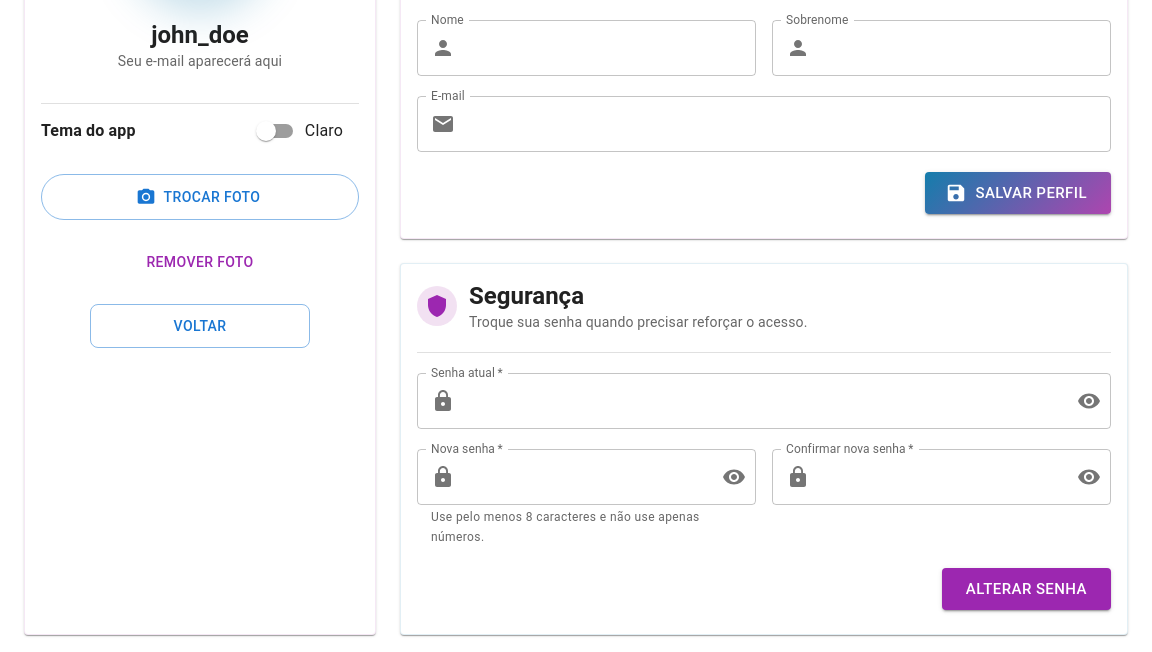
Test: Settings Page › should display password validation error if new password is under 8 characters
(page scrolled)
Type "oldpass" into the password field labelled "Senha atual *" at (762, 401), box x1=463 y1=373 x2=1061 y2=429
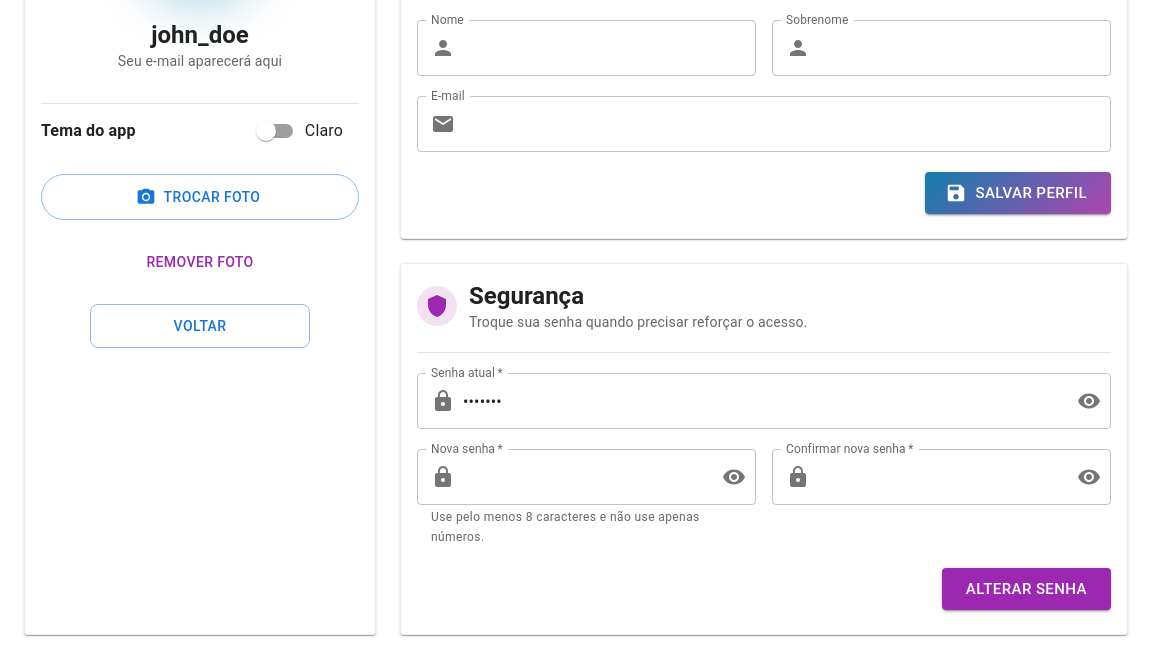
Type "short" into the password field labelled "Nova senha *" at (584, 477), box x1=463 y1=449 x2=706 y2=505
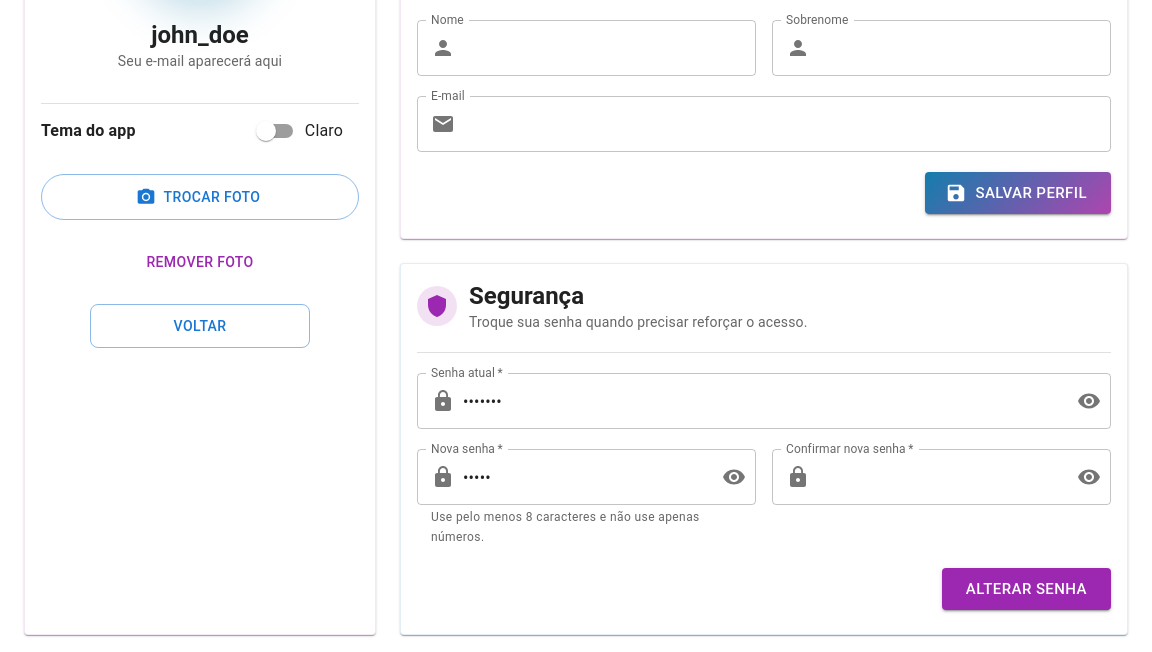
Type "short" into the password field labelled "Confirmar nova senha *" at (940, 477), box x1=818 y1=449 x2=1061 y2=505
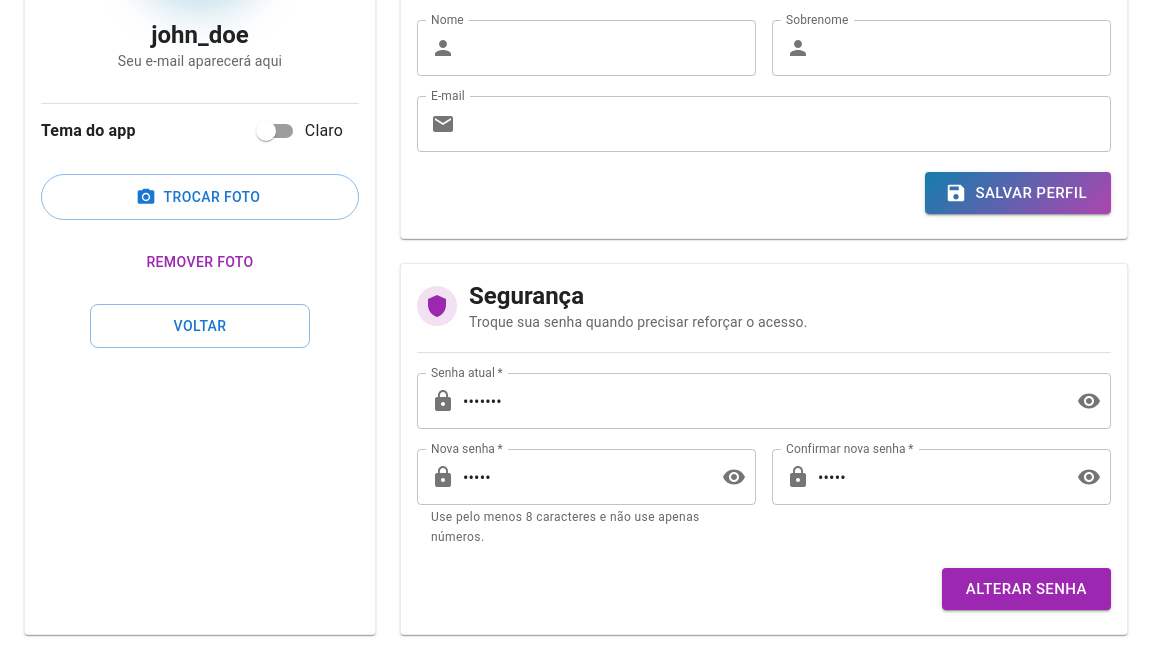
Click the button "Alterar senha" at (1026, 589), box x1=942 y1=568 x2=1111 y2=610
(page scrolled)
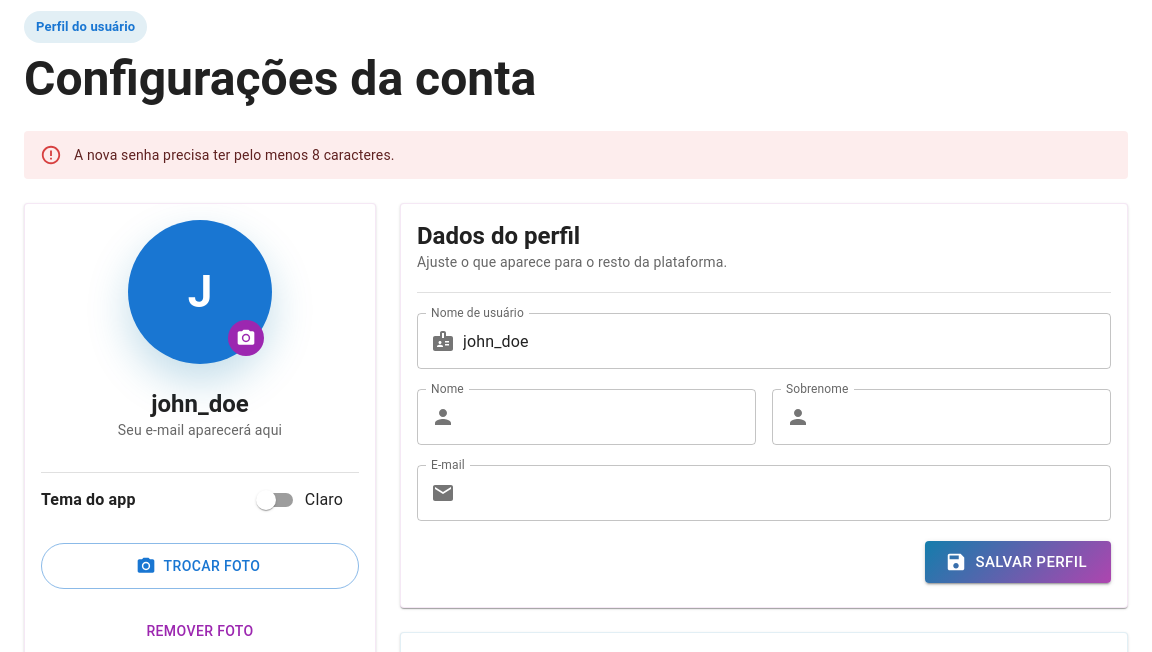
Now the text "A nova senha precisa ter pelo menos 8 caracteres." is shown, box x1=74 y1=147 x2=395 y2=163
